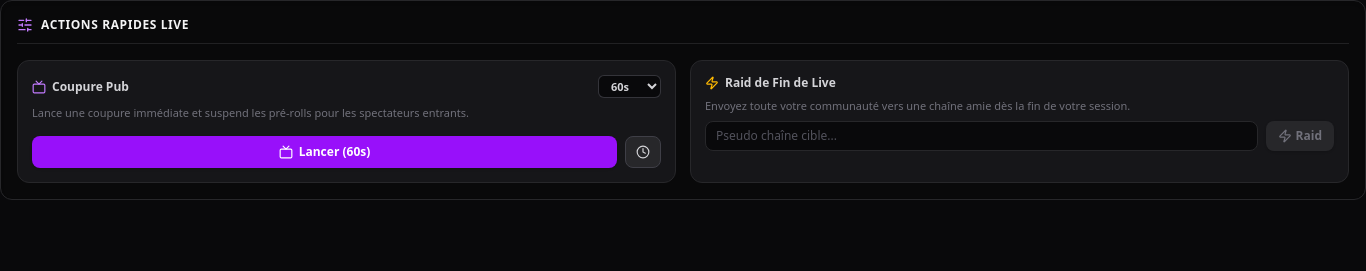
Test case: 🧩 Composant : TwitchQuickActions.vue › doit reporter la pub quand on clique sur le bouton Snooze
Click the button named "Reporter la prochaine pub de 5 minutes".
click(643, 152)  # box [625,136,661,168]
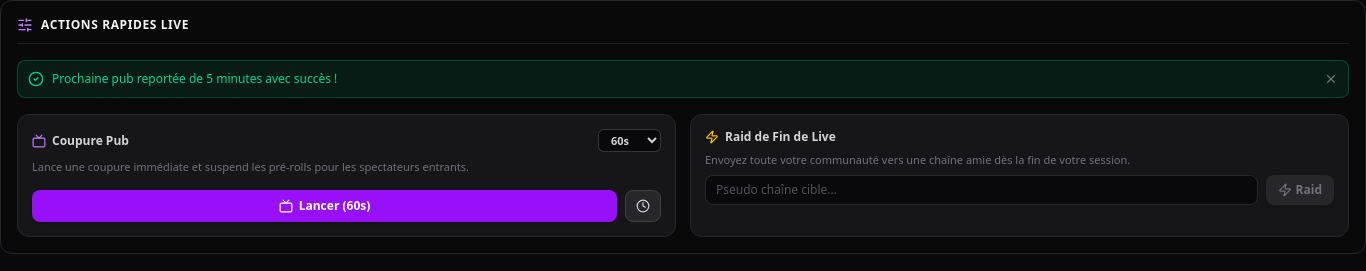
Check: the text "Prochaine pub reportée de 5 minutes" is shown, box [52,70,337,87]
